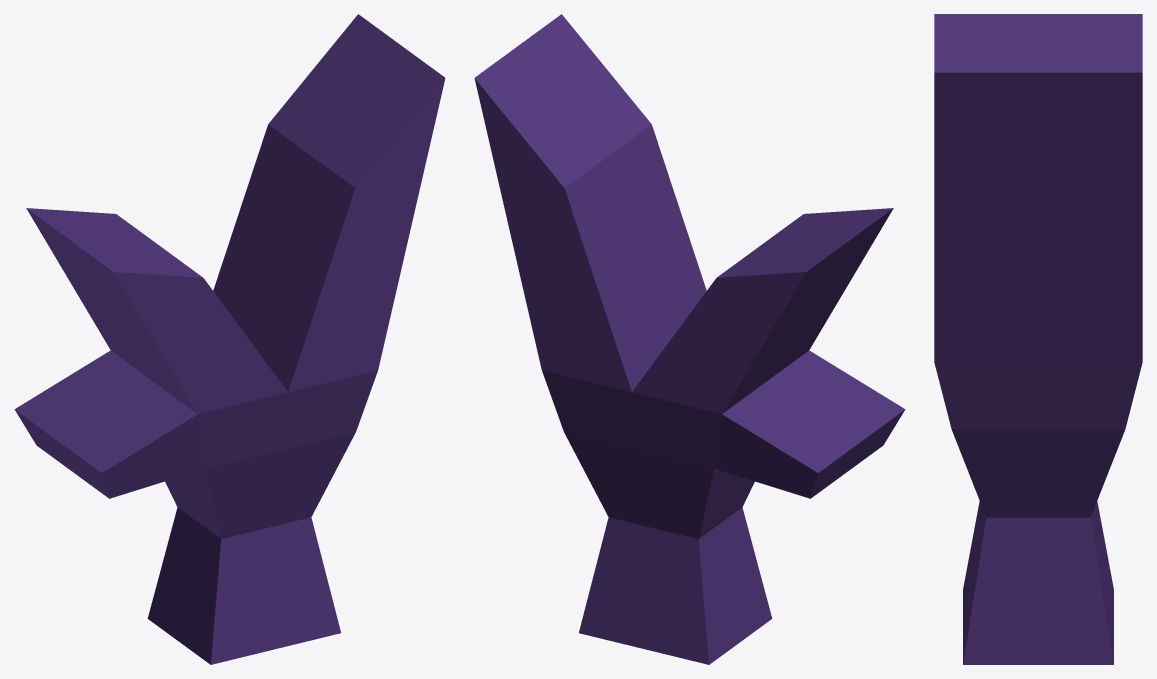
Rendered from coral1.fbx.
3 views of the same model, side by side, from view 1: azimuth 30°, elevation 25°; view 2: azimuth 150°, elevation 25°; view 3: azimuth 270°, elevation 25° (orthographic). The views are drawn at different scales.
Visible parts, largest first — view 1: Cube; view 2: Cube; view 3: Cube.
Boxes of the visible parts, x1,y1,x2,y2 form: Cube: [14, 14, 445, 664]; Cube: [474, 14, 905, 664]; Cube: [934, 14, 1142, 664].
Size of the model in its own units: 99.31 by 43.66 by 149.
